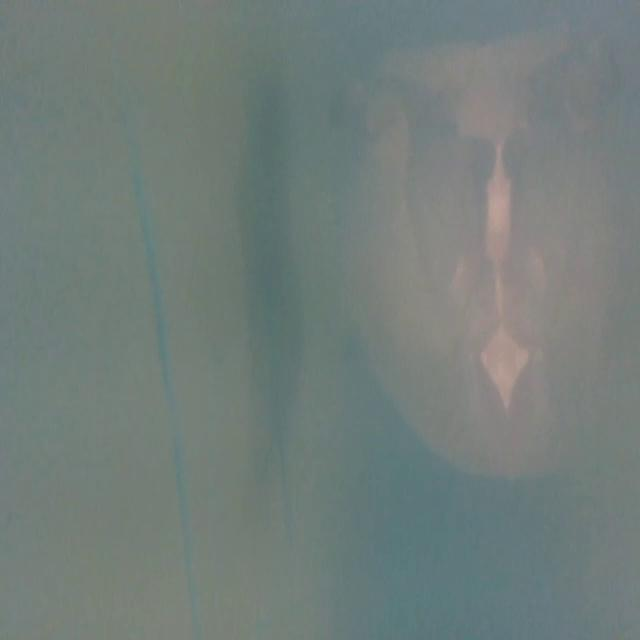plastic bags: (370, 56, 594, 473)
